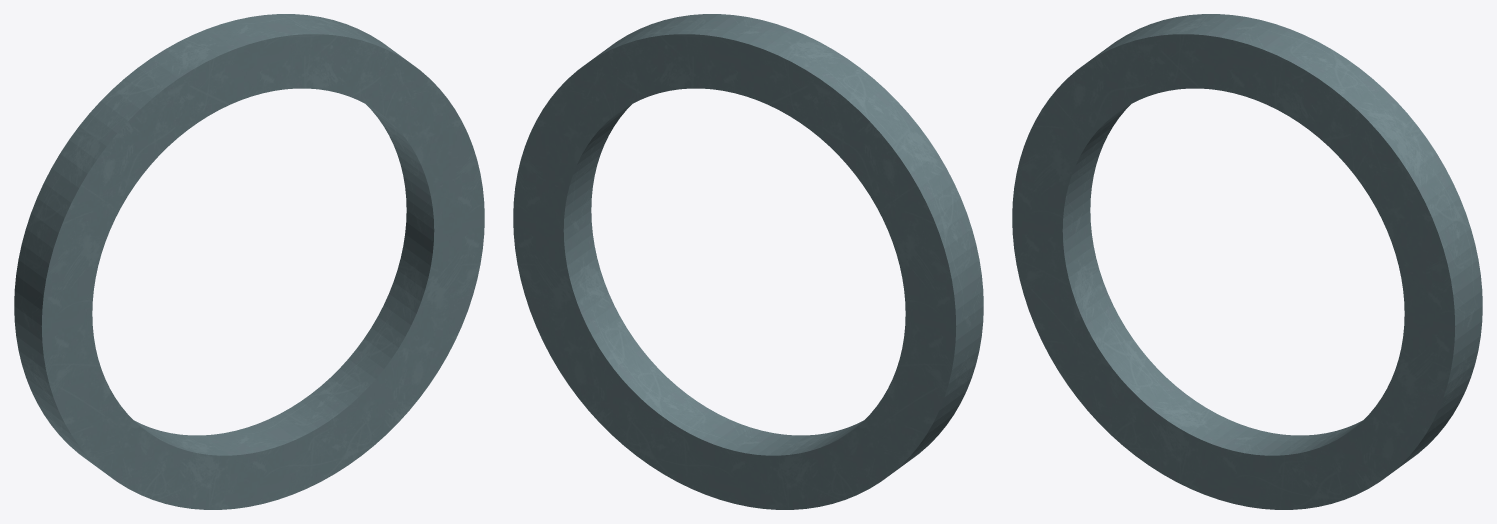
File: yaw_bearing.glb
3 renders of one model, left to right at view 1: azimuth 30°, elevation 25°; view 2: azimuth 150°, elevation 25°; view 3: azimuth 330°, elevation 25°, orthographic.
Parts seen in each view (by area): view 1: yaw_ring; view 2: yaw_ring; view 3: yaw_ring.
Boxes of the visible parts, x1,y1,x2,y2 form: yaw_ring: [14, 14, 484, 509]; yaw_ring: [513, 14, 983, 509]; yaw_ring: [1012, 14, 1482, 509].
Size of the model in its own units: 3.24 by 3.24 by 0.35.
1 material, 1 textured.
